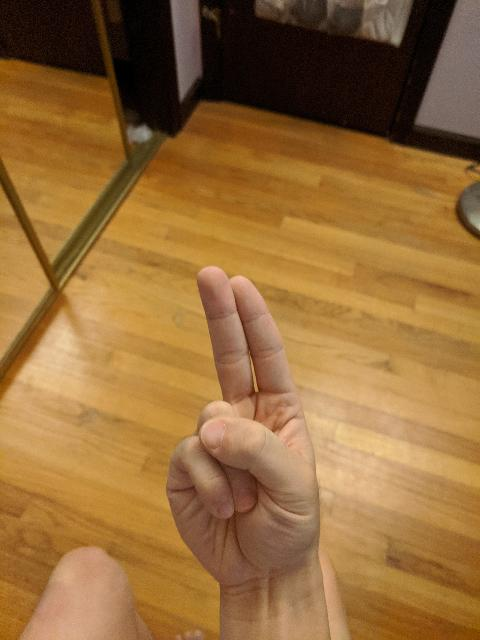U: (160, 261, 326, 591)
